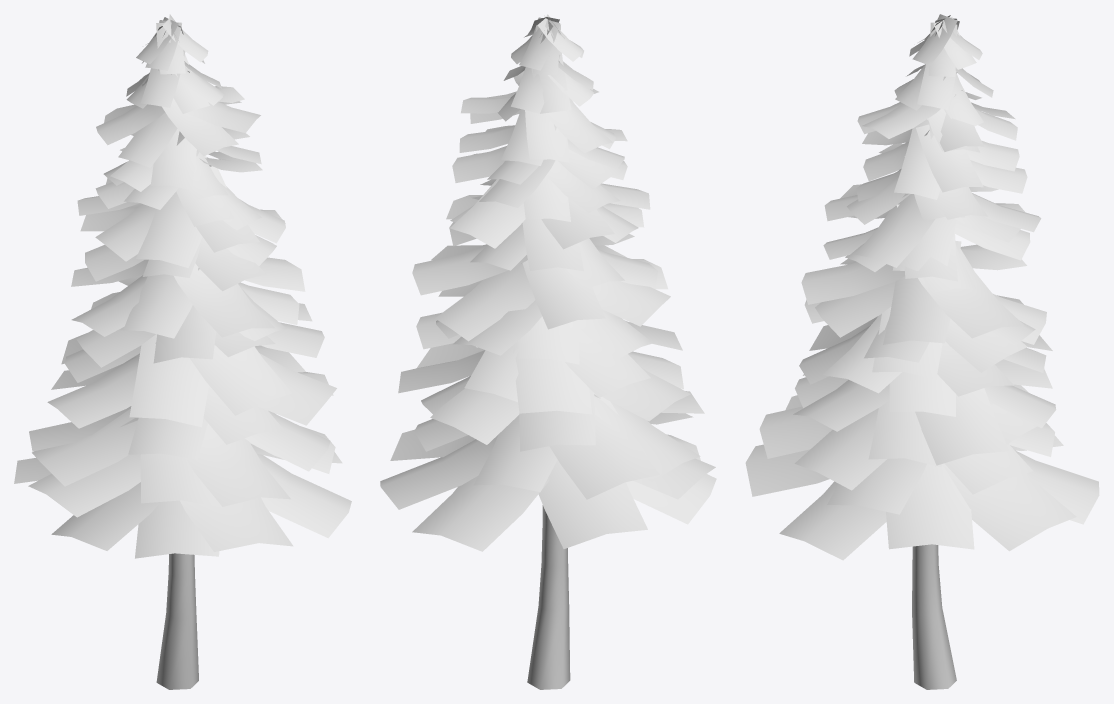
The model's file is STPine2.glb.
3 views of the same model, side by side, from view 1: azimuth 30°, elevation 25°; view 2: azimuth 150°, elevation 25°; view 3: azimuth 270°, elevation 25° (orthographic).
Visible parts, largest first — view 1: PineTree2; view 2: PineTree2; view 3: PineTree2.
Part boxes in pixels (x1,y1,x2,y2): PineTree2: (14, 14, 351, 689); PineTree2: (380, 14, 716, 689); PineTree2: (745, 14, 1099, 689).
Bounding box in the file's own units: 5.82 × 12.72 × 6.15.
2 materials, 1 textured.
